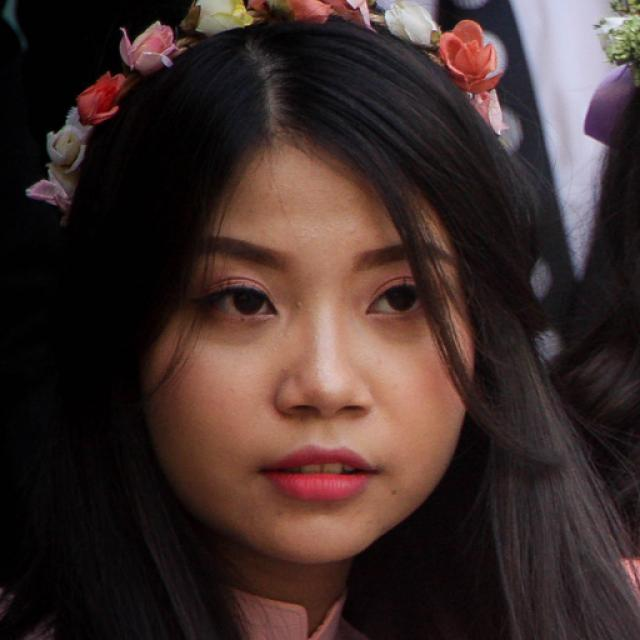Acne: (292, 292, 308, 316)
